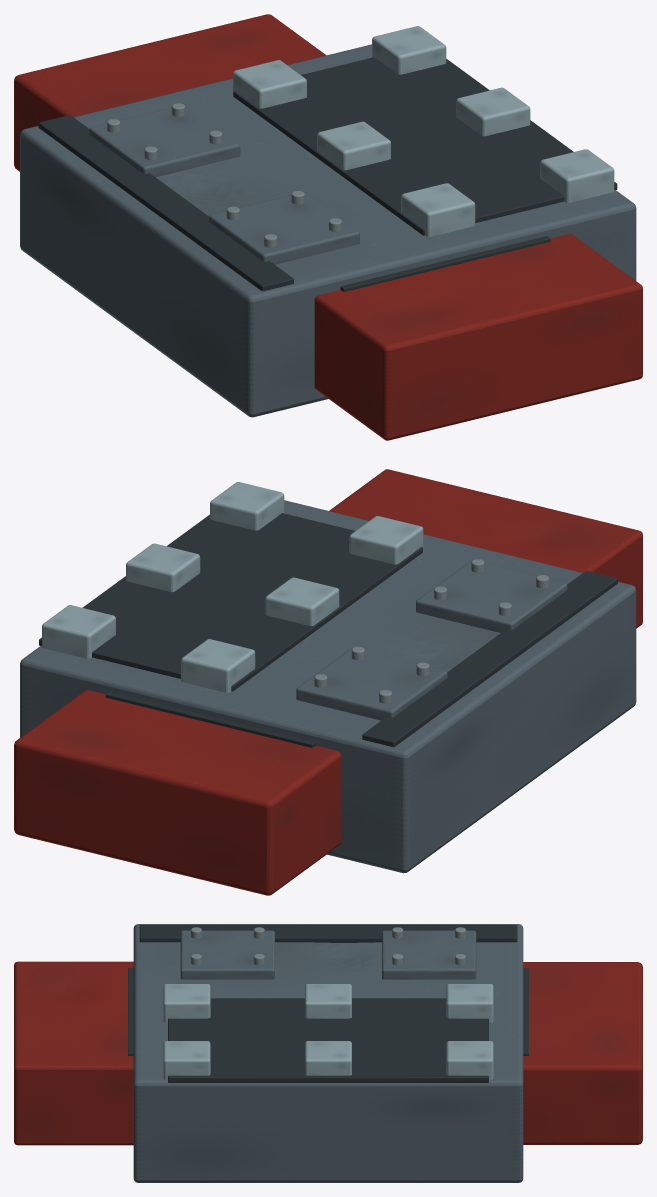
3 views of the same model, one above another, from view 1: azimuth 30°, elevation 25°; view 2: azimuth 150°, elevation 25°; view 3: azimuth 270°, elevation 25° (orthographic). The views are drawn at different scales.
Visible parts, largest first — view 1: Mauna Multiple Burns Unit central casing, Mauna Multiple Burns Unit forward terminal, Mauna Multiple Burns Unit dark patterned backing, Mauna Multiple Burns Unit rear terminal, Mauna Multiple Burns Unit dark longitudinal field, Mauna Multiple Burns Unit service cover 1, Mauna Multiple Burns Unit service cover 0, Mauna Multiple Burns Unit pale pad 1 0, Mauna Multiple Burns Unit pale pad 0 0, Mauna Multiple Burns Unit pale pad 1 1, Mauna Multiple Burns Unit pale pad 1 2, Mauna Multiple Burns Unit pale pad 0 2 (+2 smaller); view 2: Mauna Multiple Burns Unit central casing, Mauna Multiple Burns Unit rear terminal, Mauna Multiple Burns Unit dark patterned backing, Mauna Multiple Burns Unit forward terminal, Mauna Multiple Burns Unit dark longitudinal field, Mauna Multiple Burns Unit service cover 1, Mauna Multiple Burns Unit service cover 0, Mauna Multiple Burns Unit pale pad 0 2, Mauna Multiple Burns Unit pale pad 1 2, Mauna Multiple Burns Unit pale pad 0 0, Mauna Multiple Burns Unit pale pad 1 0, Mauna Multiple Burns Unit pale pad 0 1 (+2 smaller); view 3: Mauna Multiple Burns Unit central casing, Mauna Multiple Burns Unit forward terminal, Mauna Multiple Burns Unit rear terminal, Mauna Multiple Burns Unit dark patterned backing, Mauna Multiple Burns Unit dark longitudinal field, Mauna Multiple Burns Unit service cover 0, Mauna Multiple Burns Unit service cover 1, Mauna Multiple Burns Unit pale pad 0 0, Mauna Multiple Burns Unit pale pad 0 2, Mauna Multiple Burns Unit pale pad 1 0, Mauna Multiple Burns Unit pale pad 1 2, Mauna Multiple Burns Unit pale pad 0 1 (+3 smaller).
Part boxes in pixels (left/top/right/bottom): Mauna Multiple Burns Unit central casing: left=20, top=44, right=636, bottom=417; Mauna Multiple Burns Unit forward terminal: left=314, top=233, right=642, bottom=440; Mauna Multiple Burns Unit dark patterned backing: left=233, top=57, right=617, bottom=235; Mauna Multiple Burns Unit rear terminal: left=14, top=14, right=326, bottom=171; Mauna Multiple Burns Unit dark longitudinal field: left=38, top=115, right=293, bottom=291; Mauna Multiple Burns Unit service cover 1: left=89, top=105, right=240, bottom=177; Mauna Multiple Burns Unit service cover 0: left=209, top=192, right=359, bottom=264; Mauna Multiple Burns Unit pale pad 1 0: left=540, top=149, right=614, bottom=202; Mauna Multiple Burns Unit pale pad 0 0: left=401, top=183, right=475, bottom=236; Mauna Multiple Burns Unit pale pad 1 1: left=456, top=87, right=530, bottom=136; Mauna Multiple Burns Unit pale pad 1 2: left=372, top=26, right=446, bottom=74; Mauna Multiple Burns Unit pale pad 0 2: left=233, top=60, right=306, bottom=108; Mauna Multiple Burns Unit central casing: left=20, top=500, right=636, bottom=873; Mauna Multiple Burns Unit rear terminal: left=14, top=690, right=341, bottom=895; Mauna Multiple Burns Unit dark patterned backing: left=39, top=513, right=422, bottom=691; Mauna Multiple Burns Unit forward terminal: left=329, top=469, right=642, bottom=628; Mauna Multiple Burns Unit dark longitudinal field: left=362, top=571, right=617, bottom=747; Mauna Multiple Burns Unit service cover 1: left=296, top=648, right=447, bottom=720; Mauna Multiple Burns Unit service cover 0: left=416, top=560, right=567, bottom=632; Mauna Multiple Burns Unit pale pad 0 2: left=181, top=639, right=255, bottom=692; Mauna Multiple Burns Unit pale pad 1 2: left=42, top=605, right=115, bottom=658; Mauna Multiple Burns Unit pale pad 0 0: left=349, top=516, right=423, bottom=564; Mauna Multiple Burns Unit pale pad 1 0: left=210, top=482, right=284, bottom=530; Mauna Multiple Burns Unit pale pad 0 1: left=265, top=577, right=339, bottom=626; Mauna Multiple Burns Unit central casing: left=133, top=924, right=523, bottom=1182; Mauna Multiple Burns Unit forward terminal: left=14, top=961, right=133, bottom=1145; Mauna Multiple Burns Unit rear terminal: left=523, top=962, right=642, bottom=1144; Mauna Multiple Burns Unit dark patterned backing: left=168, top=998, right=488, bottom=1082; Mauna Multiple Burns Unit dark longitudinal field: left=139, top=925, right=517, bottom=942; Mauna Multiple Burns Unit service cover 0: left=180, top=930, right=274, bottom=979; Mauna Multiple Burns Unit service cover 1: left=382, top=930, right=476, bottom=979; Mauna Multiple Burns Unit pale pad 0 0: left=163, top=984, right=210, bottom=1022; Mauna Multiple Burns Unit pale pad 0 2: left=446, top=984, right=493, bottom=1022; Mauna Multiple Burns Unit pale pad 1 0: left=163, top=1041, right=210, bottom=1079; Mauna Multiple Burns Unit pale pad 1 2: left=446, top=1041, right=493, bottom=1079; Mauna Multiple Burns Unit pale pad 0 1: left=305, top=984, right=351, bottom=1018.
Size of the model in its own units: 1.2 by 0.4425 by 2.
5 materials, 3 textured.
